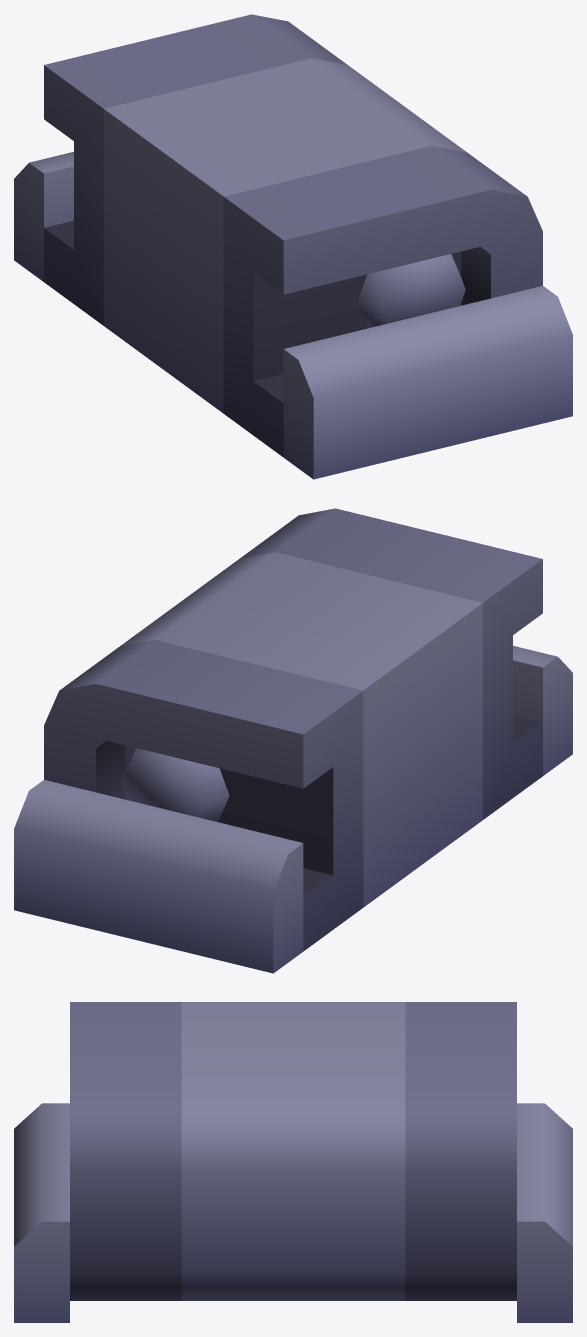
File: conveyor-long-stripe-sides-part-end.glb
The picture shows the model from 3 angles, top to bottom: view 1: azimuth 30°, elevation 25°; view 2: azimuth 150°, elevation 25°; view 3: azimuth 270°, elevation 25°; orthographic projection. The views are drawn at different scales.
Parts seen in each view (by area): view 1: conveyor-long-stripe-sides-part-end; view 2: conveyor-long-stripe-sides-part-end; view 3: conveyor-long-stripe-sides-part-end.
Part boxes in pixels (bbox=[...]): conveyor-long-stripe-sides-part-end: bbox=[14, 14, 572, 479]; conveyor-long-stripe-sides-part-end: bbox=[14, 508, 572, 973]; conveyor-long-stripe-sides-part-end: bbox=[14, 1002, 572, 1322].
Bounding box in the file's own units: 0.5 × 0.4 × 1.
